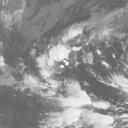cyclone: (35, 40, 73, 77)
